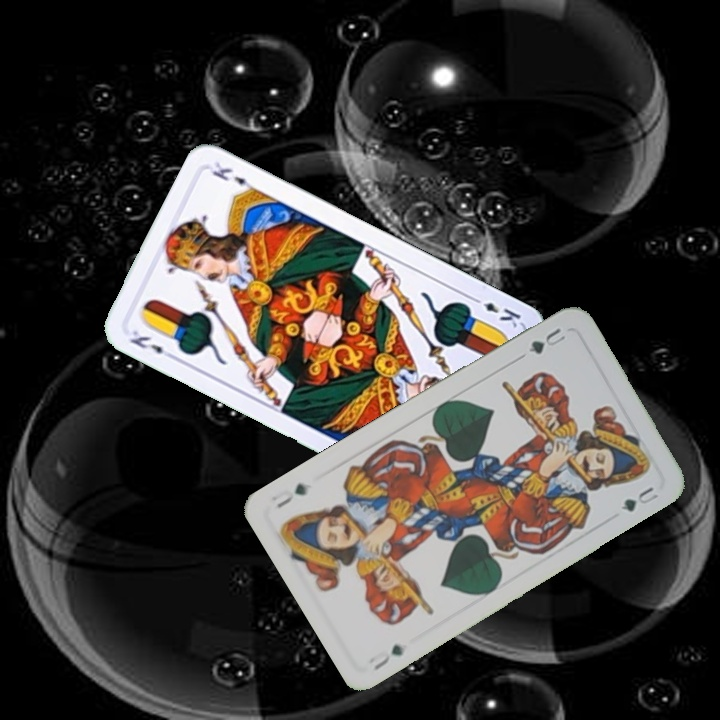EK: (467, 292, 524, 330), (126, 326, 179, 363)
GU: (524, 323, 569, 357), (369, 640, 406, 673)
